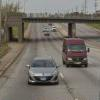Bridge: (9, 5, 94, 36)
